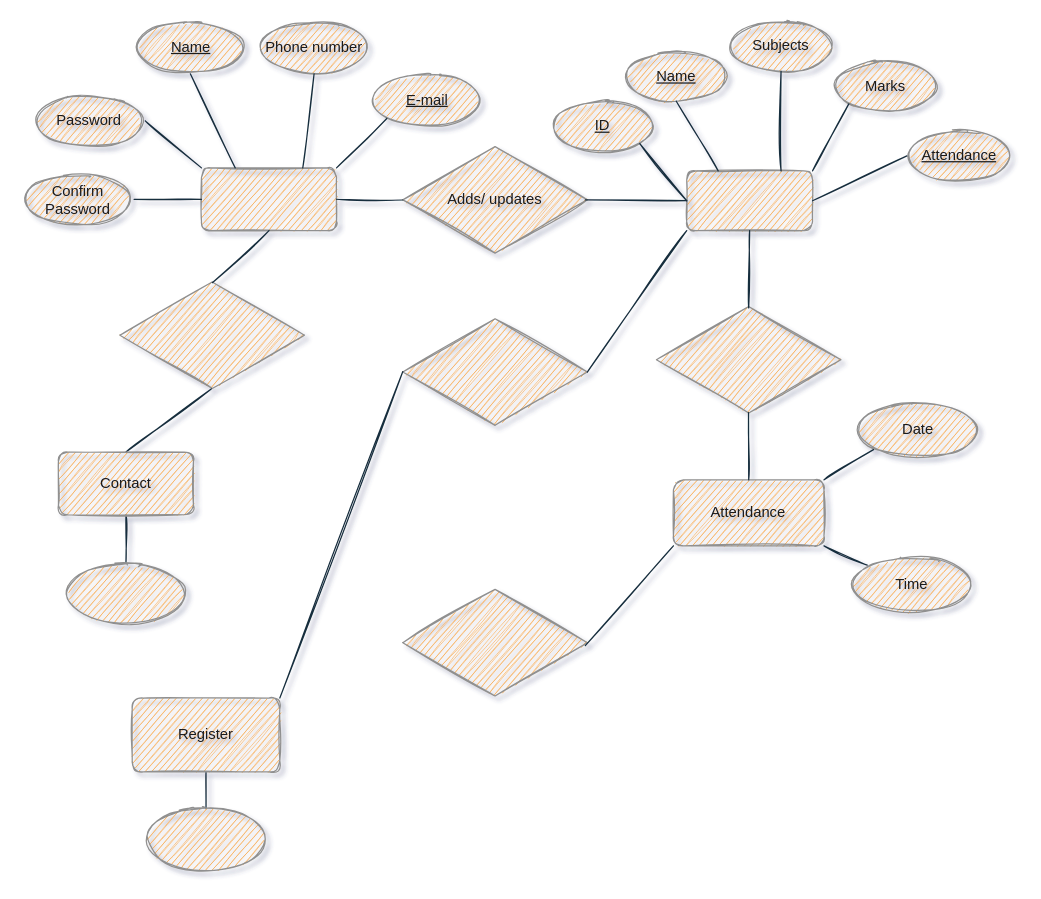
The diagram is 1041 pixels wide and 899 high, and some of its shapes have lost their labels. Each missing label, with the centre of its shape:
"Attendance Shortage" belongs at (494,642).
"Message" belongs at (125,592).
"Monitered for attendance" belongs at (748,359).
"Provide sample for registeration" belongs at (494,371).
"Register_admin" belongs at (268,199).
"Register_number" belongs at (205,838).
"Sends queries" belongs at (211,335).
"Students" belongs at (749,200).
